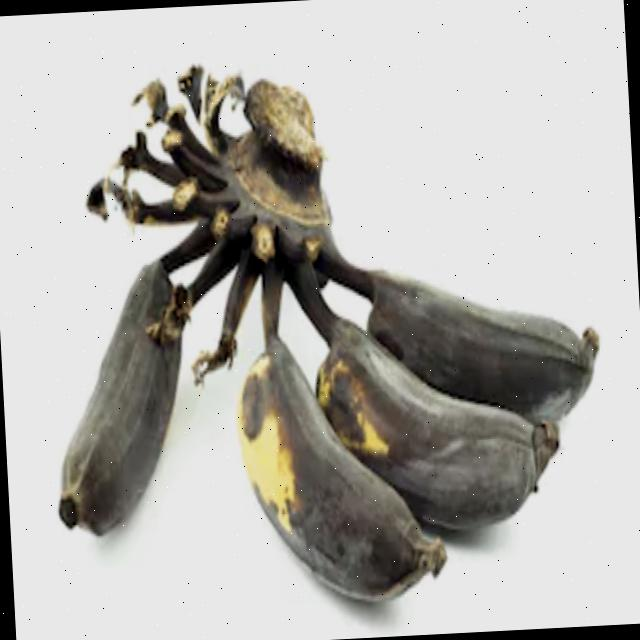rotten banana: (0, 21, 633, 640)
